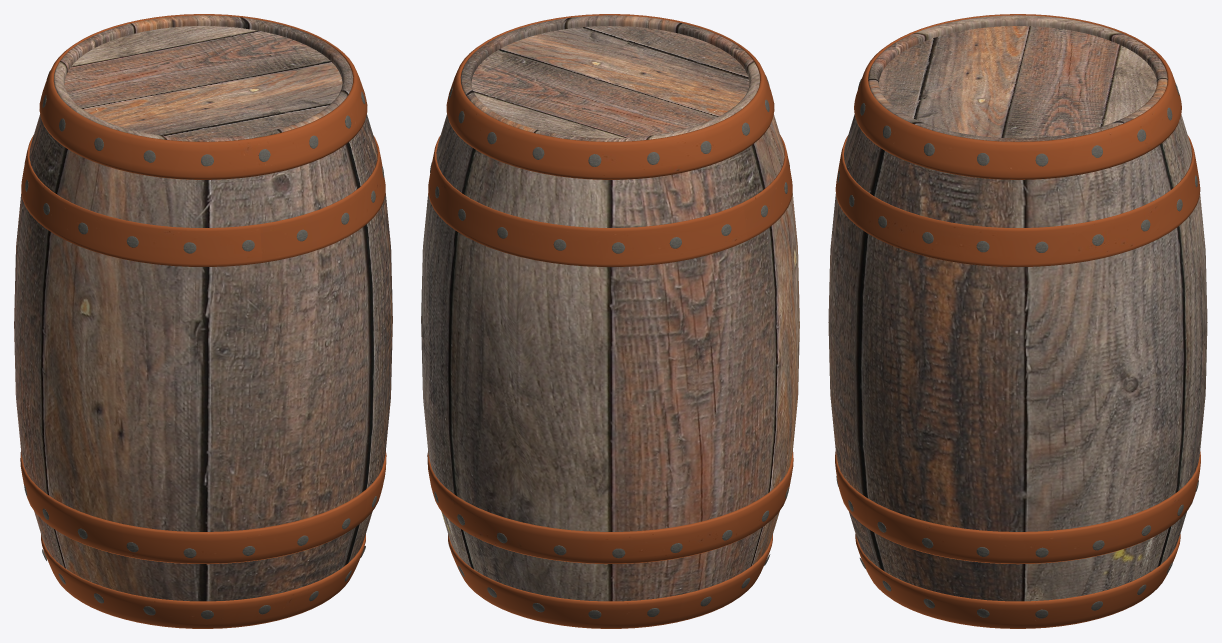
File: barrel.fbx
3 views of the same model, side by side, from view 1: azimuth 30°, elevation 25°; view 2: azimuth 150°, elevation 25°; view 3: azimuth 270°, elevation 25° (orthographic).
Parts seen in each view (by area): view 1: barrel_body, Barrel_Top_Bottom, Cylinder.003, Cylinder.004, Cylinder.002, Cylinder.005, Sphere.002, Sphere, Sphere.003, Sphere.001; view 2: barrel_body, Barrel_Top_Bottom, Cylinder.003, Cylinder.004, Cylinder.002, Cylinder.005, Sphere, Sphere.002, Sphere.003, Sphere.001; view 3: barrel_body, Barrel_Top_Bottom, Cylinder.003, Cylinder.004, Cylinder.002, Cylinder.005, Sphere, Sphere.002, Sphere.003, Sphere.001.
Boxes of the visible parts, x1,y1,x2,y2 form: barrel_body: [14, 15, 392, 601]; Barrel_Top_Bottom: [64, 26, 342, 138]; Cylinder.003: [21, 135, 385, 266]; Cylinder.004: [39, 14, 367, 179]; Cylinder.002: [20, 451, 386, 564]; Cylinder.005: [41, 534, 365, 628]; Sphere.002: [24, 161, 384, 253]; Sphere: [42, 70, 365, 166]; Sphere.003: [24, 474, 385, 558]; Sphere.001: [42, 546, 365, 619]; barrel_body: [421, 15, 799, 601]; Barrel_Top_Bottom: [471, 26, 749, 138]; Cylinder.003: [428, 135, 792, 266]; Cylinder.004: [446, 14, 774, 179]; Cylinder.002: [427, 451, 793, 564]; Cylinder.005: [448, 534, 772, 628]; Sphere: [449, 76, 769, 166]; Sphere.002: [430, 159, 789, 253]; Sphere.003: [434, 487, 788, 558]; Sphere.001: [448, 543, 770, 618]; barrel_body: [828, 15, 1207, 601]; Barrel_Top_Bottom: [879, 26, 1156, 138]; Cylinder.003: [835, 136, 1200, 266]; Cylinder.004: [854, 14, 1181, 179]; Cylinder.002: [835, 451, 1200, 564]; Cylinder.005: [855, 534, 1180, 628]; Sphere: [858, 79, 1179, 166]; Sphere.002: [837, 170, 1197, 252]; Sphere.003: [836, 476, 1198, 557]; Sphere.001: [859, 558, 1172, 618].
Size of the model in its own units: 89.69 by 128 by 89.69.
Materials: 3 (3 with a texture image).
